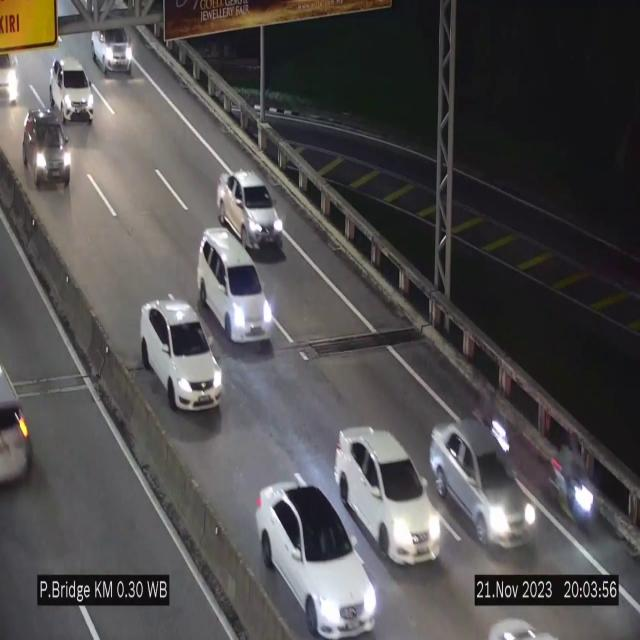Car: (256, 481, 376, 639), (335, 428, 441, 565), (429, 419, 536, 549), (140, 298, 223, 411), (198, 228, 274, 344), (216, 170, 284, 250), (0, 340, 32, 496), (17, 110, 73, 190), (50, 58, 94, 124), (91, 22, 137, 76), (0, 30, 28, 113)
Motorcycle: (550, 426, 598, 530), (472, 380, 509, 454)
